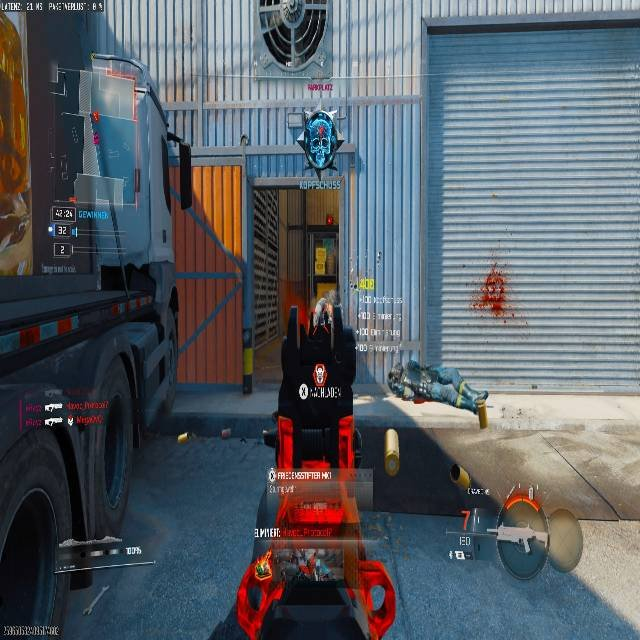head: (387, 364, 404, 385)
player: (296, 105, 342, 180)
